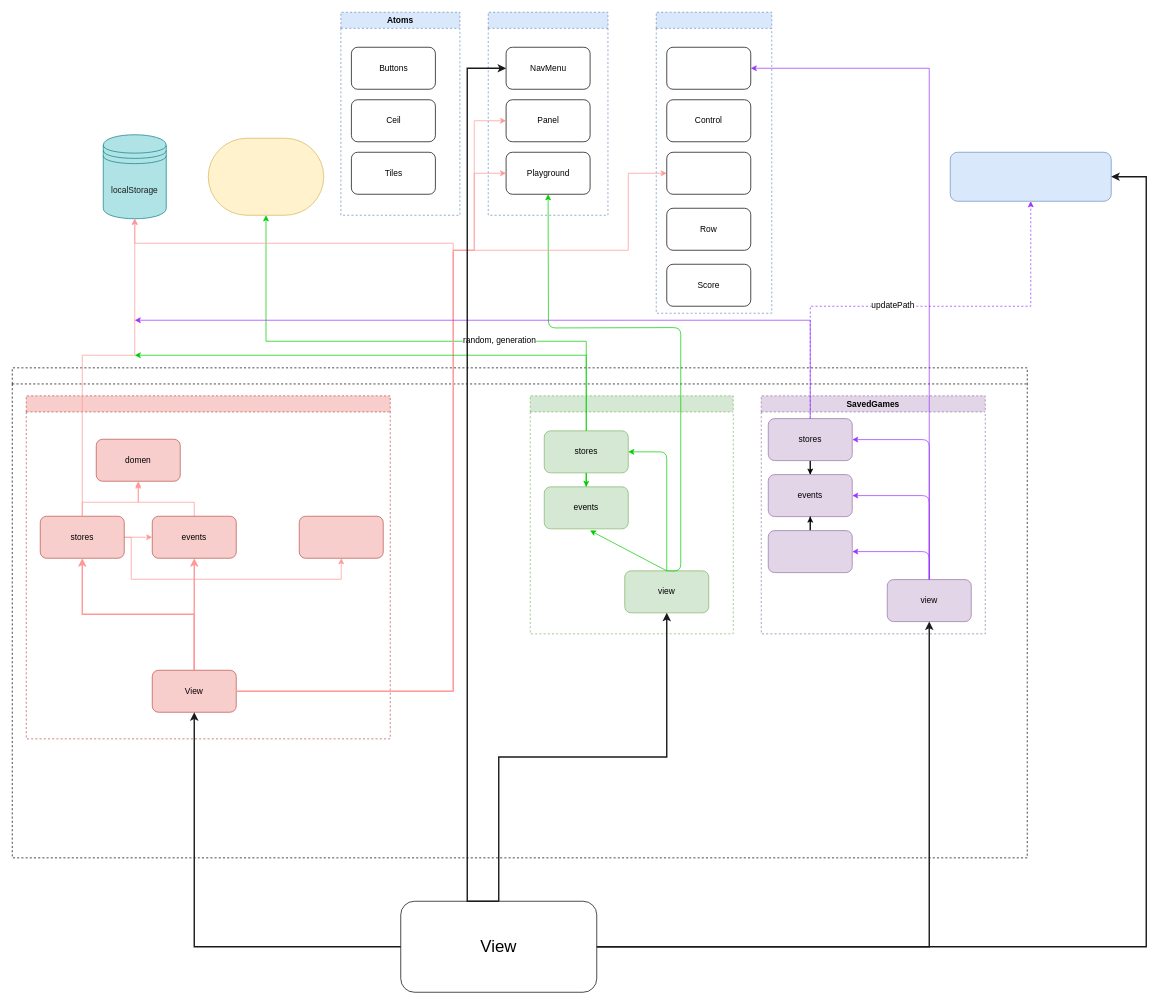
The diagram is 1165 pixels wide and 1005 high, and some of its shapes have lost their labels. The shapes that lost their labels are listed below. From the top down, each one's box as (x1, y1, x2, y2) in pixels, then its label:
(666, 47, 751, 89): Card
(488, 12, 608, 215): Organisms
(208, 138, 324, 215): Helpers
(666, 152, 751, 194): Modal
(656, 12, 772, 313): Molecules
(950, 152, 1111, 201): Routes
(530, 395, 733, 634): Settings
(299, 516, 383, 558): mechanics
(768, 530, 852, 573): components
(26, 395, 390, 739): Game
(12, 367, 1027, 858): Page
